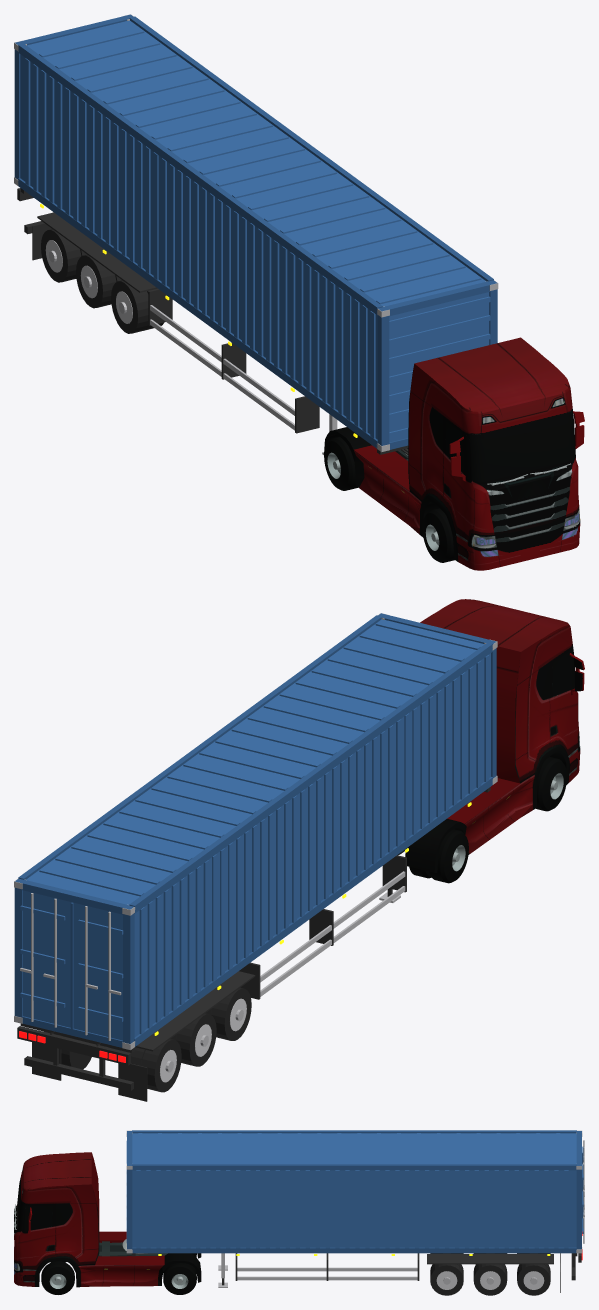
Rendered from semi_container45_blue.glb.
3 views of the same model, one above another, from view 1: azimuth 30°, elevation 25°; view 2: azimuth 150°, elevation 25°; view 3: azimuth 270°, elevation 25° (orthographic). The views are drawn at different scales.
Visible parts, largest first — view 1: trailer_container, Cube.001, trailer_wheels, trailer_chassis, Cube.003, Cube.005; view 2: trailer_container, Cube.001, trailer_chassis, trailer_wheels, Cube.005, Cube.003; view 3: trailer_container, Cube.001, trailer_wheels, trailer_chassis, Cube.006, Cube.004.
Boxes of the visible parts, left/top/right/bottom form: trailer_container: left=14, top=14, right=498, bottom=452; Cube.001: left=324, top=337, right=584, bottom=570; trailer_wheels: left=37, top=212, right=164, bottom=333; trailer_chassis: left=17, top=188, right=408, bottom=454; Cube.003: left=422, top=508, right=454, bottom=562; Cube.005: left=324, top=437, right=357, bottom=490; trailer_container: left=14, top=613, right=497, bottom=1050; Cube.001: left=397, top=599, right=584, bottom=872; trailer_chassis: left=17, top=787, right=490, bottom=1101; trailer_wheels: left=44, top=971, right=255, bottom=1092; Cube.005: left=409, top=829, right=468, bottom=883; Cube.003: left=535, top=756, right=566, bottom=811; trailer_container: left=126, top=1130, right=584, bottom=1253; Cube.001: left=14, top=1152, right=201, bottom=1287; trailer_wheels: left=427, top=1253, right=553, bottom=1295; trailer_chassis: left=131, top=1231, right=582, bottom=1292; Cube.006: left=41, top=1261, right=74, bottom=1294; Cube.004: left=163, top=1263, right=196, bottom=1294.
Bounding box in the file's own units: 2.9 × 4.35 × 17.21.
Materials: 9 (1 with a texture image).
